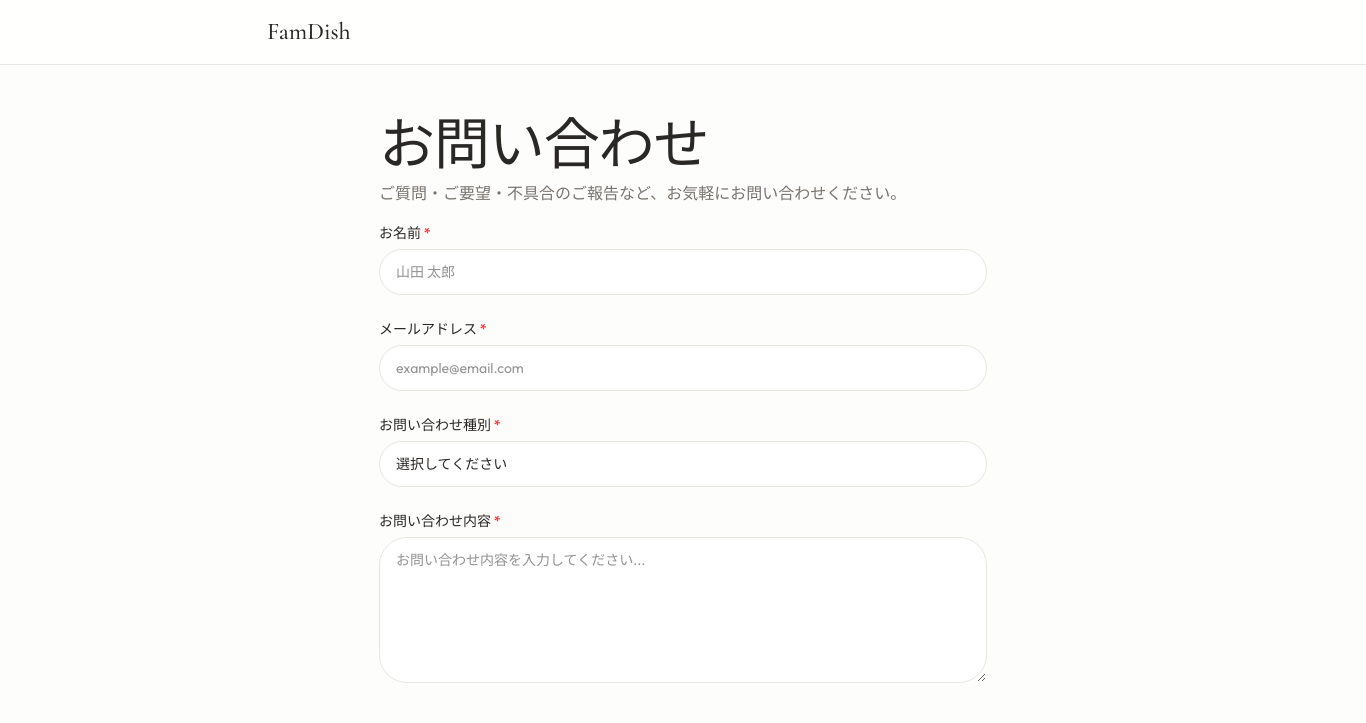
Scenario: ContactPage › 送信成功後「送信が完了しました」を表示する
Type "山田太郎" into the field labelled "お名前 *" at [683, 272], box [379, 249, 987, 295]
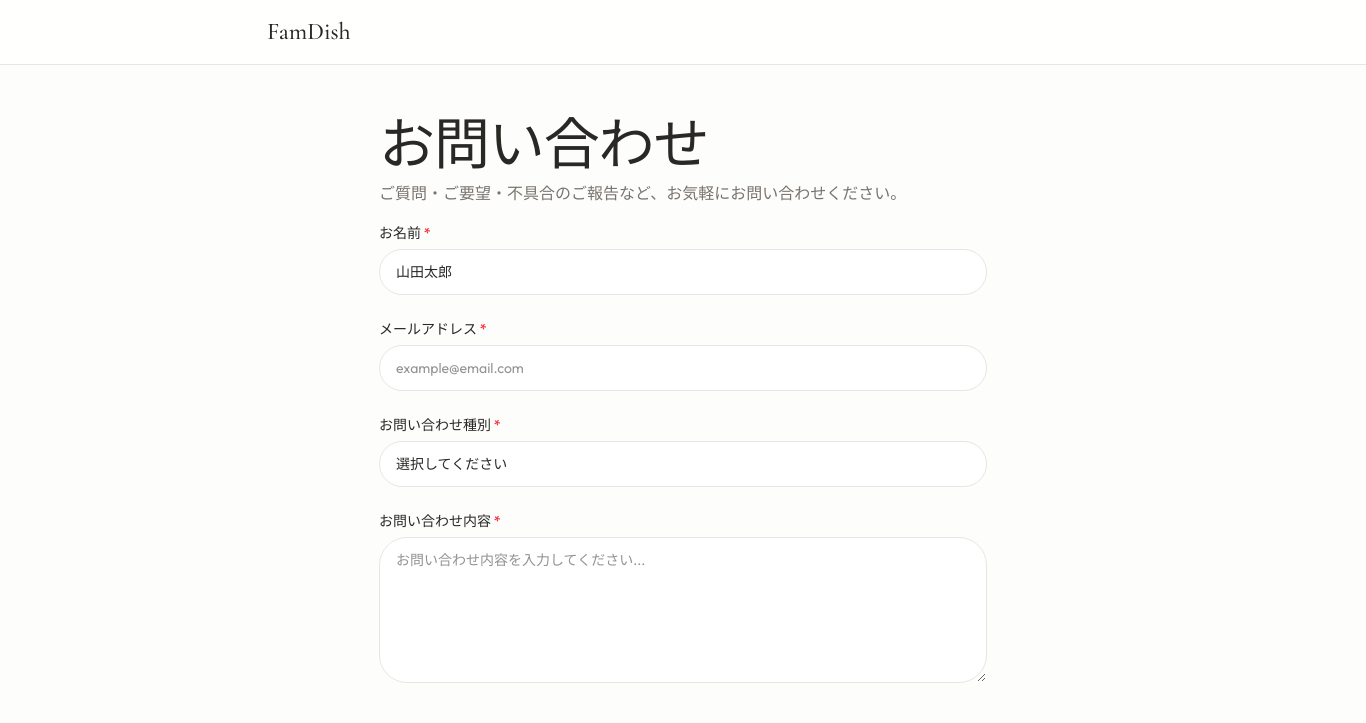
Type "test@example.com" into the field labelled "メールアドレス *" at [683, 368], box [379, 345, 987, 391]
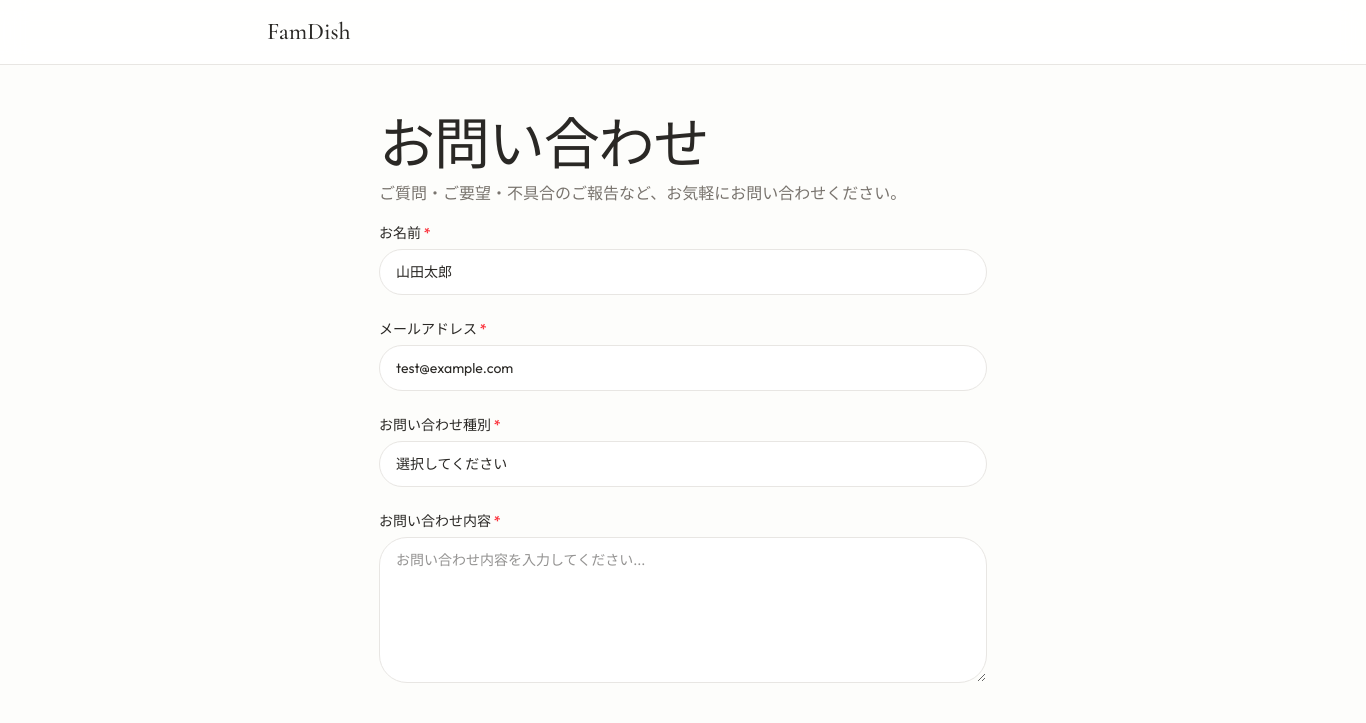
Select "一般的なご質問" in the dropdown labelled "お問い合わせ種別 *" at [683, 464], box [379, 441, 987, 487]
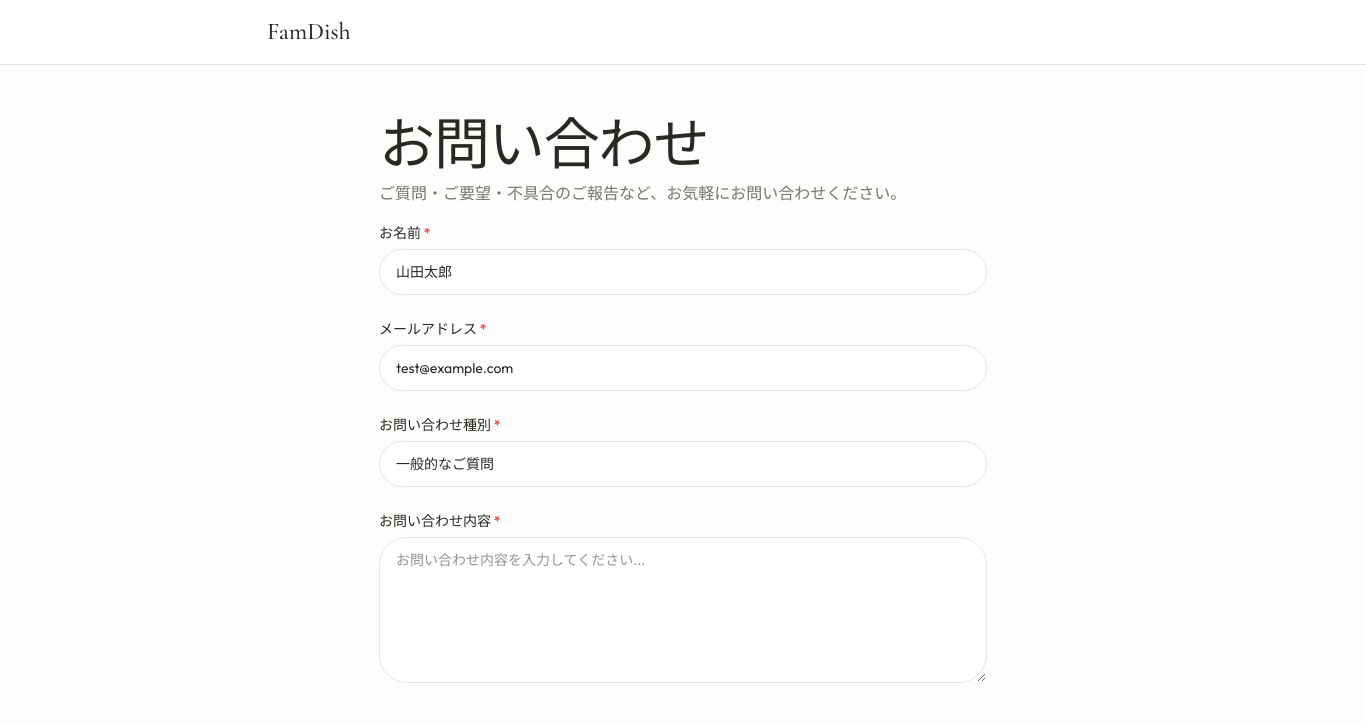
Type "テストメッセージ" into the text box labelled "お問い合わせ内容 *" at [683, 610], box [379, 537, 987, 683]
(page scrolled)
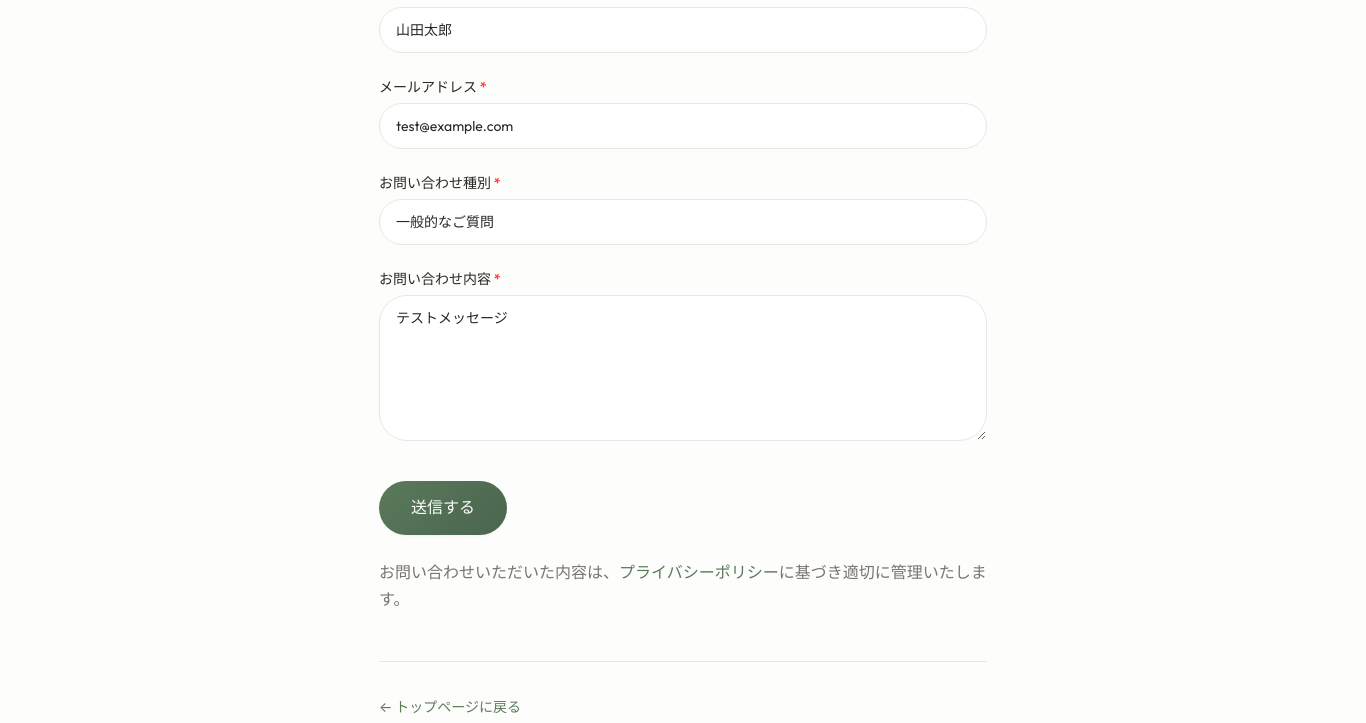
Click the button "送信する" at [443, 508], box [379, 481, 507, 535]
(page scrolled)
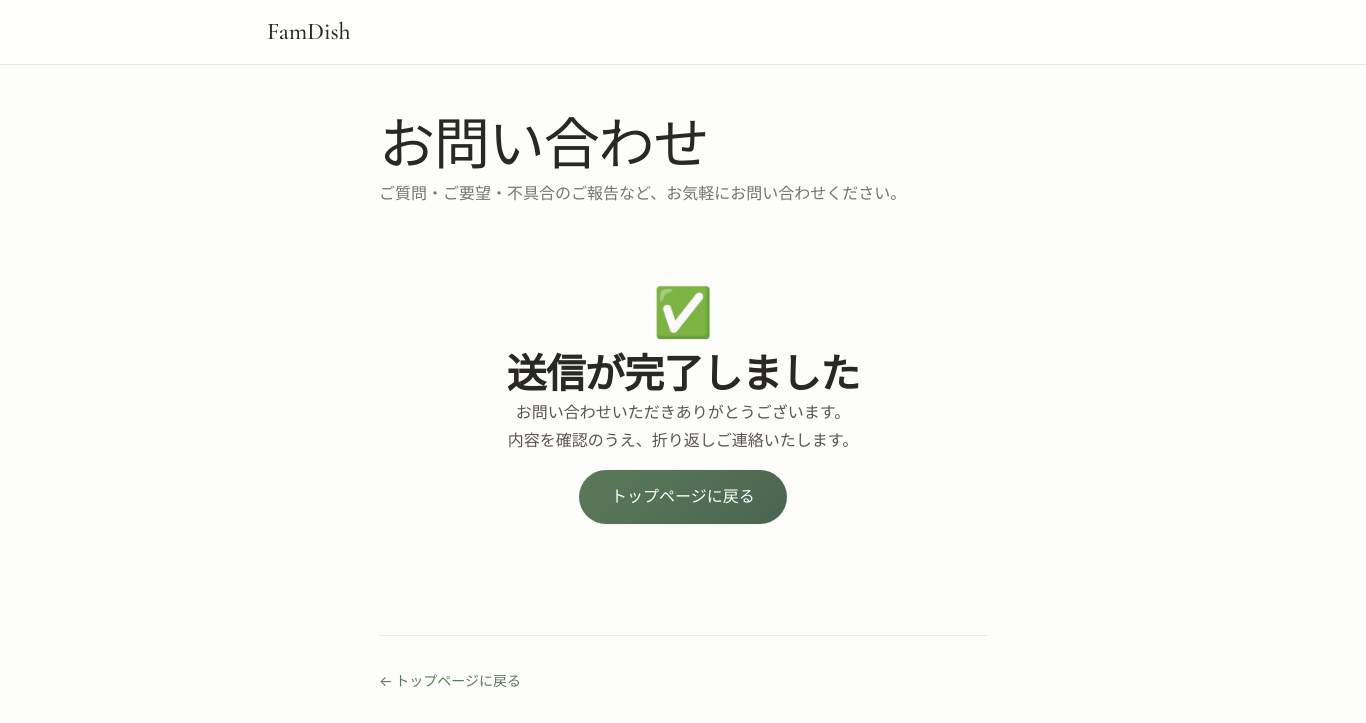
Expected: the heading "送信が完了しました" is shown, [507, 351, 859, 399]
